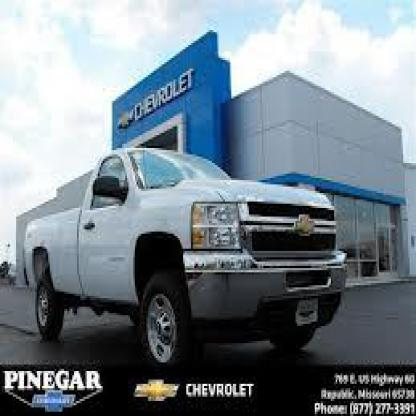Vehicle: (21, 144, 352, 380)
